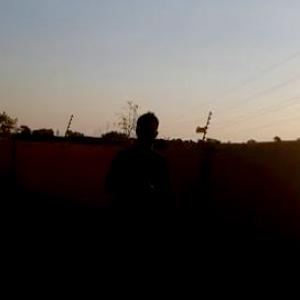follow: (95, 105, 179, 299)
